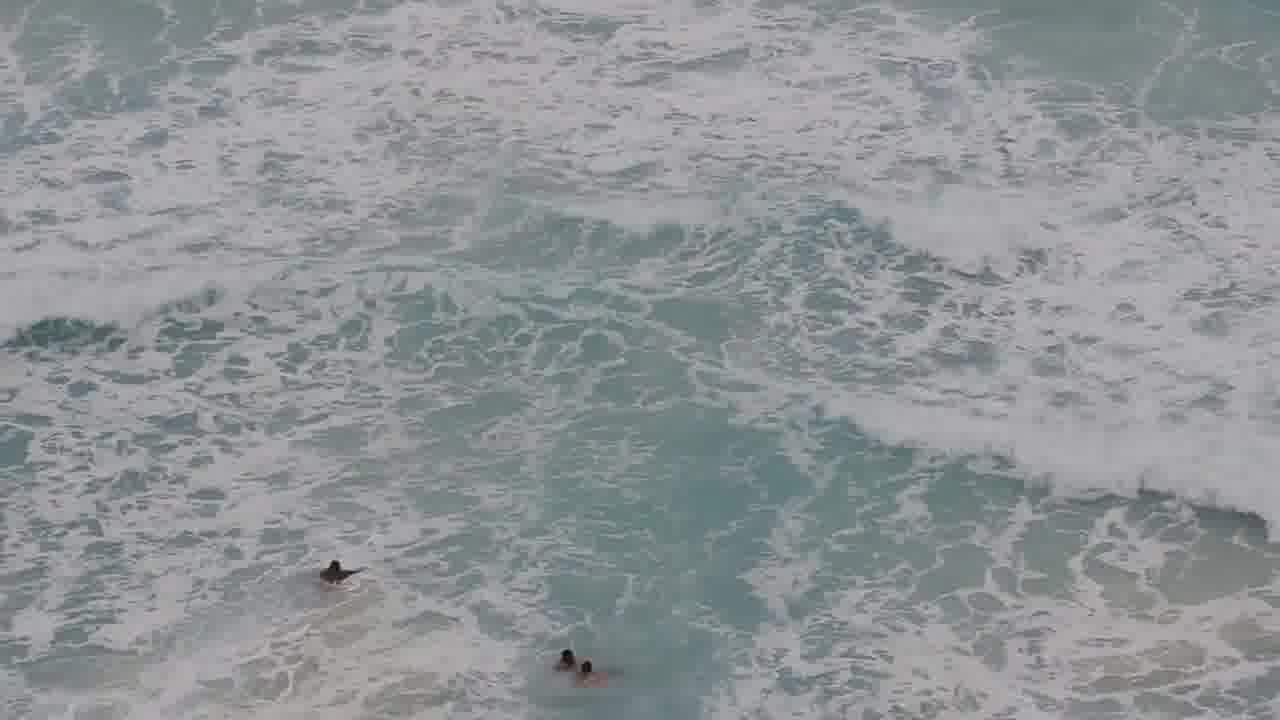swimmer: (304, 544, 364, 592), (573, 650, 609, 685), (544, 638, 579, 672)
